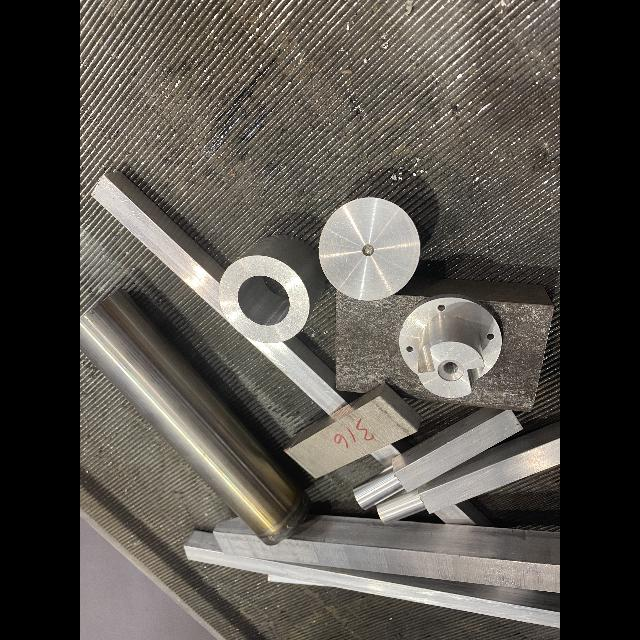Aluminium: (185, 532, 560, 629), (214, 515, 560, 593), (93, 172, 224, 315), (376, 424, 560, 525), (354, 407, 524, 511), (219, 237, 326, 343), (399, 296, 502, 399), (319, 198, 420, 301), (250, 337, 347, 415), (434, 504, 476, 525), (370, 444, 400, 467)
Ferrous Metal: (335, 277, 555, 412)
Stainless Steel: (80, 291, 311, 545), (285, 384, 421, 478)
